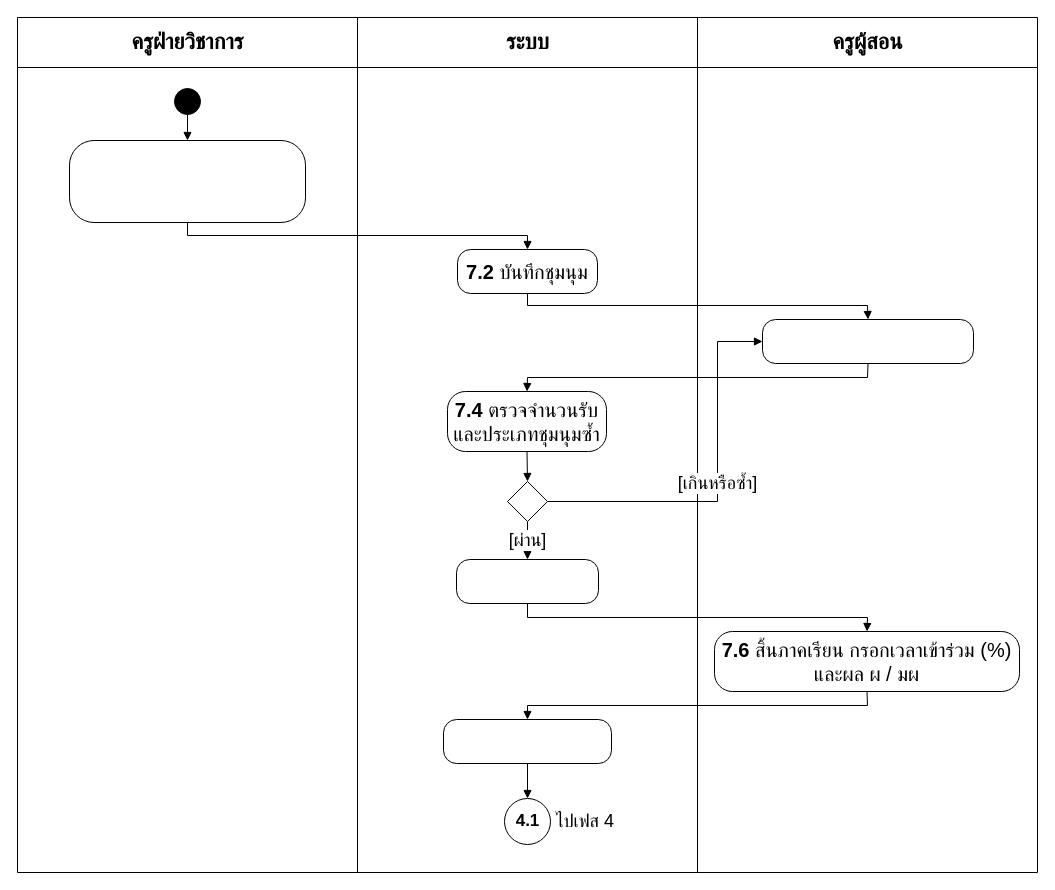
Some shapes in this 1055 by 890 pixel diagram are drawn without their labels. Each missing label, with the centre of its shape:
"7.1 สร้างชุมนุม กำหนดประเภท รายวิชากิจกรรม ครูที่ปรึกษา และจำนวนรับ" belongs at (187,181).
"7.3 เพิ่มนักเรียนเป็นสมาชิก" belongs at (868,341).
"7.5 บันทึกสมาชิก" belongs at (527,581).
"7.7 บันทึกผลกิจกรรม" belongs at (527,741).
